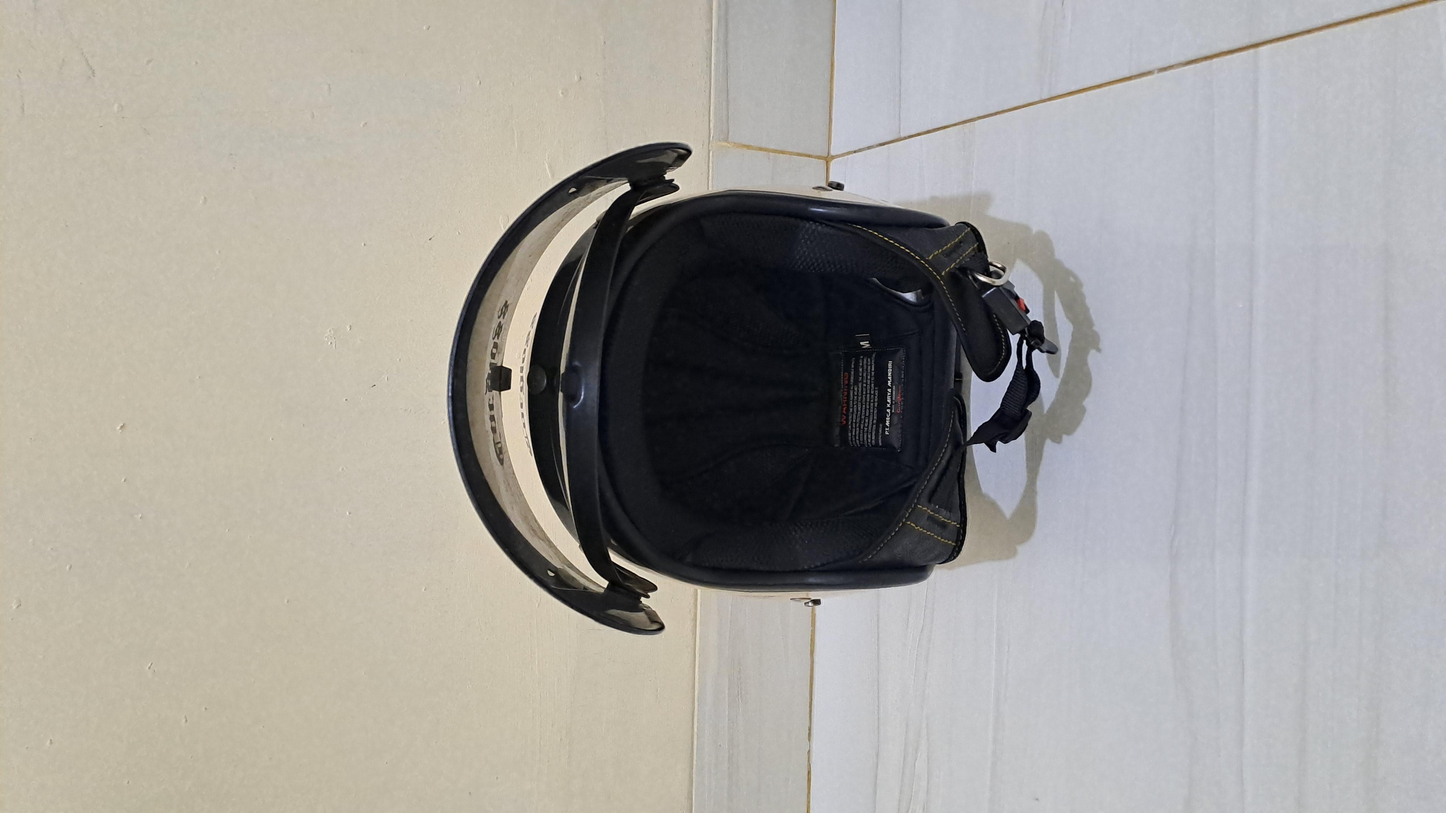helmet: (298, 242, 1217, 592)
